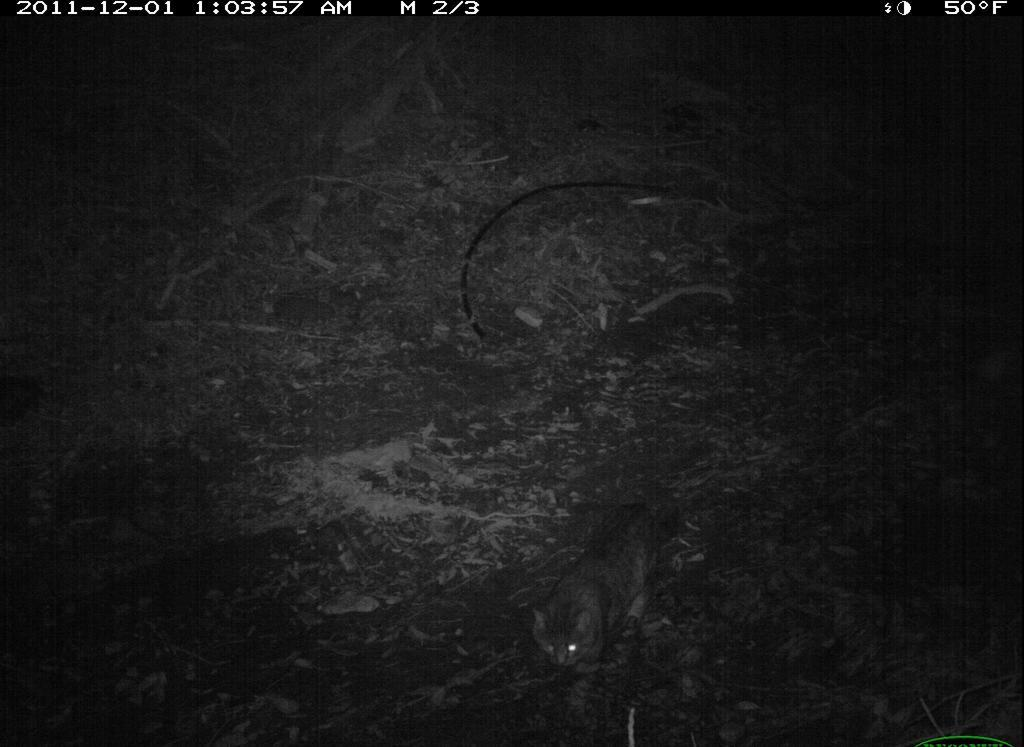cat: (517, 491, 665, 741)
